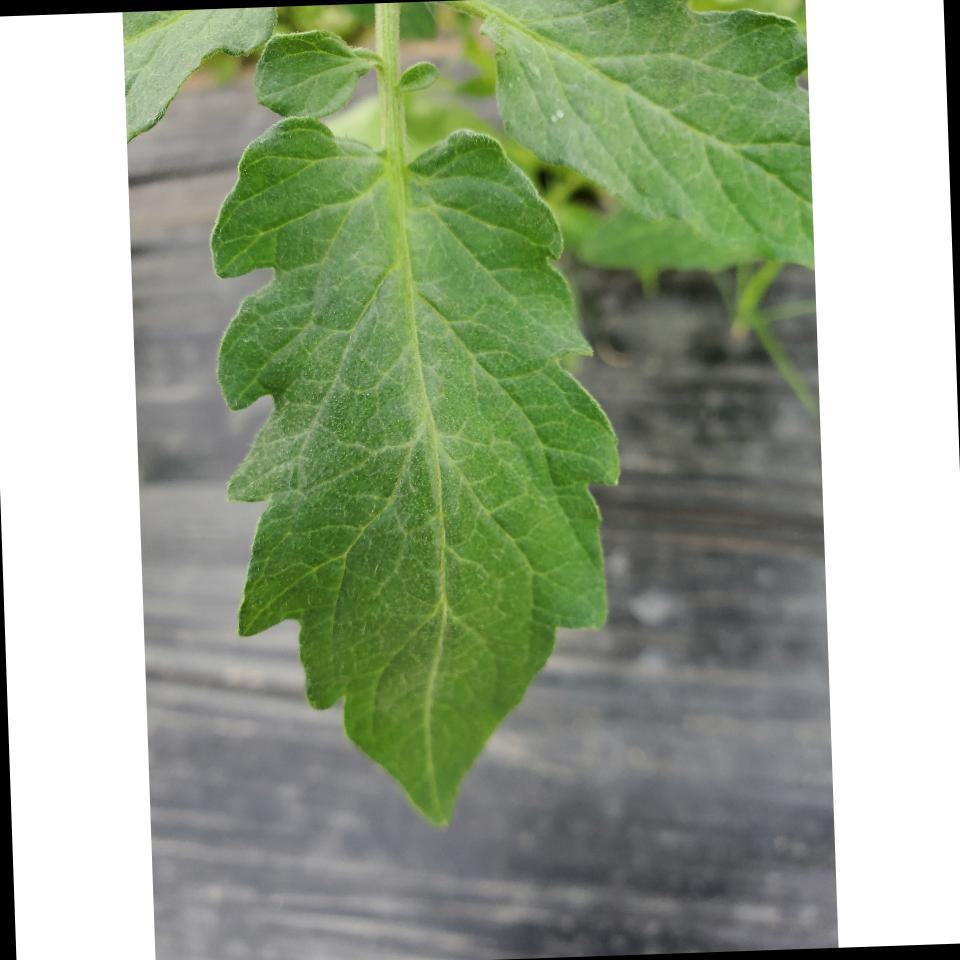tomato_leaves: (210, 112, 618, 822)
